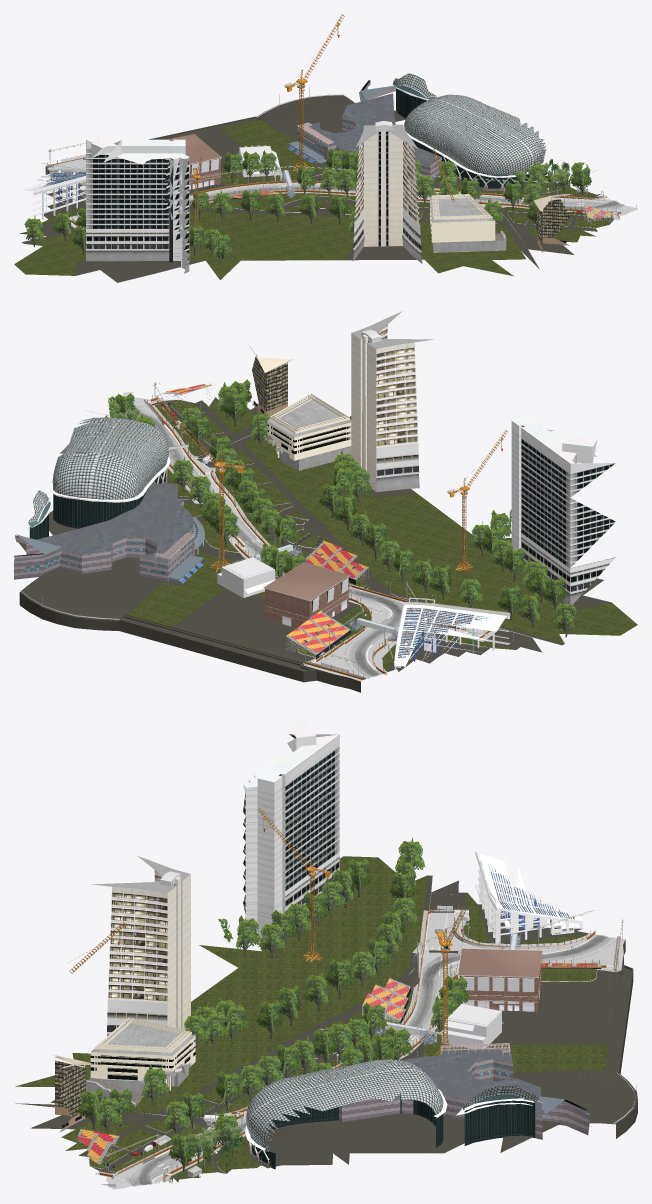
3 views of the same model, one above another, from view 1: azimuth 30°, elevation 25°; view 2: azimuth 150°, elevation 25°; view 3: azimuth 270°, elevation 25° (orthographic). The views are drawn at different scales.
Parts seen in each view (by area): view 1: m97_t09, m33_t09, m14_t09, m96_t09, m48_t09, m36_t09, m30_t09, m34_t09, m47_t09, m15_t09, m0_t09, m86_t09 (+6 smaller); view 2: m97_t09, m96_t09, m14_t09, m33_t09, m30_t09, m36_t09, m48_t09, m34_t09, m54_t09, m86_t09, m0_t09, m15_t09 (+12 smaller); view 3: m97_t09, m96_t09, m14_t09, m33_t09, m36_t09, m48_t09, m30_t09, m34_t09, m47_t09, m0_t09, m54_t09, m86_t09 (+11 smaller).
Part boxes in pixels (left/top/right/bottom): m97_t09: left=14, top=119, right=609, bottom=279; m33_t09: left=86, top=135, right=189, bottom=273; m14_t09: left=24, top=148, right=591, bottom=271; m96_t09: left=19, top=95, right=613, bottom=282; m48_t09: left=395, top=73, right=546, bottom=175; m36_t09: left=352, top=121, right=422, bottom=263; m30_t09: left=288, top=80, right=441, bottom=179; m34_t09: left=430, top=194, right=506, bottom=252; m47_t09: left=392, top=79, right=545, bottom=190; m15_t09: left=47, top=168, right=624, bottom=210; m0_t09: left=50, top=94, right=637, bottom=224; m86_t09: left=21, top=170, right=85, bottom=219; m97_t09: left=126, top=397, right=637, bottom=671; m96_t09: left=15, top=400, right=610, bottom=692; m14_t09: left=105, top=379, right=576, bottom=637; m33_t09: left=511, top=417, right=615, bottom=604; m30_t09: left=14, top=483, right=204, bottom=584; m36_t09: left=351, top=311, right=433, bottom=492; m48_t09: left=28, top=417, right=168, bottom=527; m34_t09: left=263, top=393, right=351, bottom=470; m54_t09: left=263, top=562, right=350, bottom=627; m86_t09: left=393, top=597, right=510, bottom=670; m0_t09: left=20, top=392, right=491, bottom=674; m15_t09: left=125, top=407, right=403, bottom=678; m97_t09: left=15, top=856, right=611, bottom=1180; m96_t09: left=15, top=875, right=637, bottom=1182; m14_t09: left=77, top=837, right=470, bottom=1177; m33_t09: left=243, top=721, right=339, bottom=940; m36_t09: left=90, top=856, right=190, bottom=1035; m48_t09: left=246, top=1059, right=538, bottom=1148; m30_t09: left=339, top=1043, right=590, bottom=1139; m34_t09: left=86, top=1017, right=195, bottom=1106; m47_t09: left=245, top=1089, right=542, bottom=1169; m0_t09: left=101, top=905, right=635, bottom=1188; m54_t09: left=457, top=948, right=542, bottom=1011; m86_t09: left=475, top=851, right=584, bottom=943.
Size of the model in its own units: 441 by 120 by 346.
35 materials, 34 textured.
